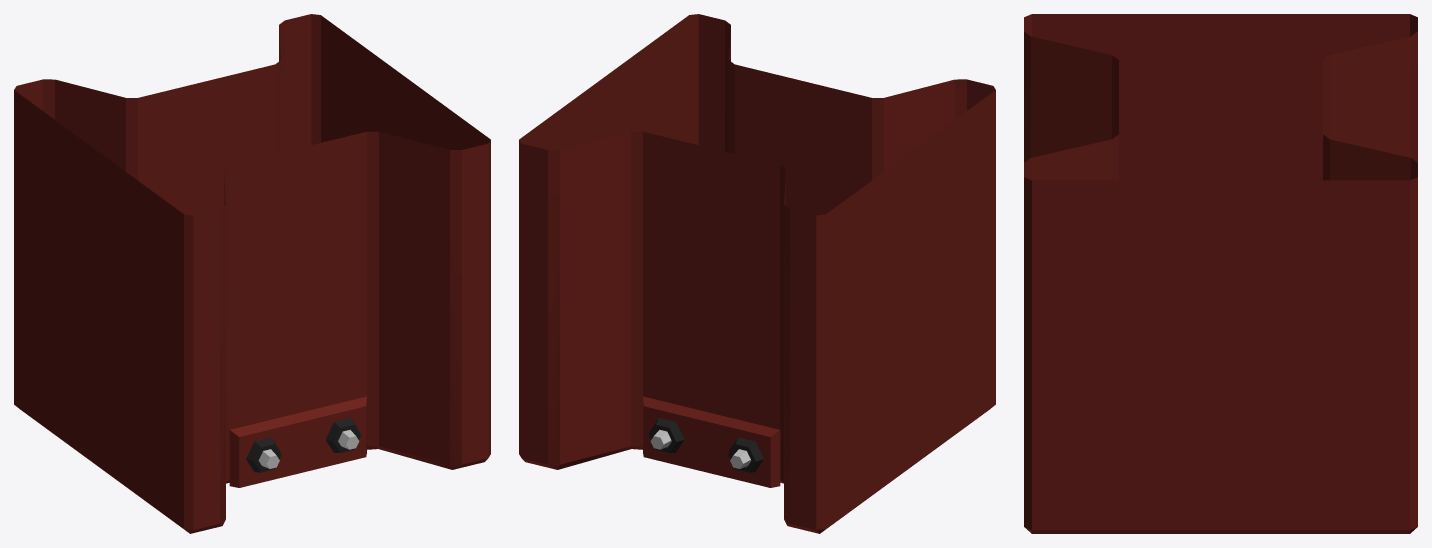
Rendered from sm_steelbeam_oneBolts.fbx.
The picture shows the model from 3 angles, left to right: view 1: azimuth 30°, elevation 25°; view 2: azimuth 150°, elevation 25°; view 3: azimuth 270°, elevation 25°; orthographic projection. The views are drawn at different scales.
Visible parts, largest first — view 1: steelbeam_oneBolts; view 2: steelbeam_oneBolts; view 3: steelbeam_oneBolts.
Boxes of the visible parts, x1,y1,x2,y2 form: steelbeam_oneBolts: [14, 14, 490, 533]; steelbeam_oneBolts: [519, 14, 995, 533]; steelbeam_oneBolts: [1024, 14, 1417, 533].
Size of the model in its own units: 100 by 100 by 100.
